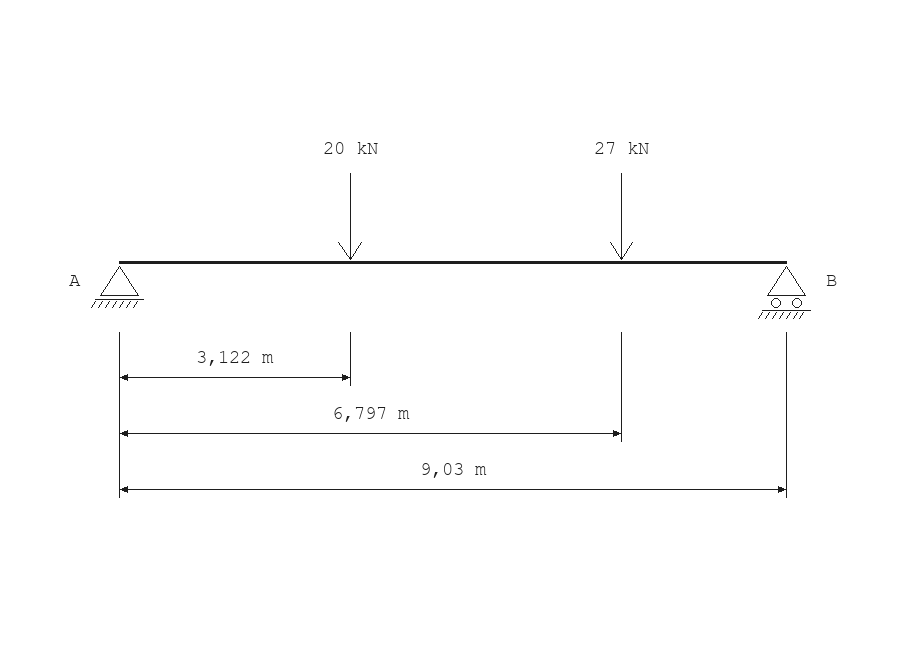pin_support: (91, 266, 144, 308)
point_load: (338, 173, 362, 260), (610, 173, 633, 260)
roller_support: (758, 266, 811, 319)
